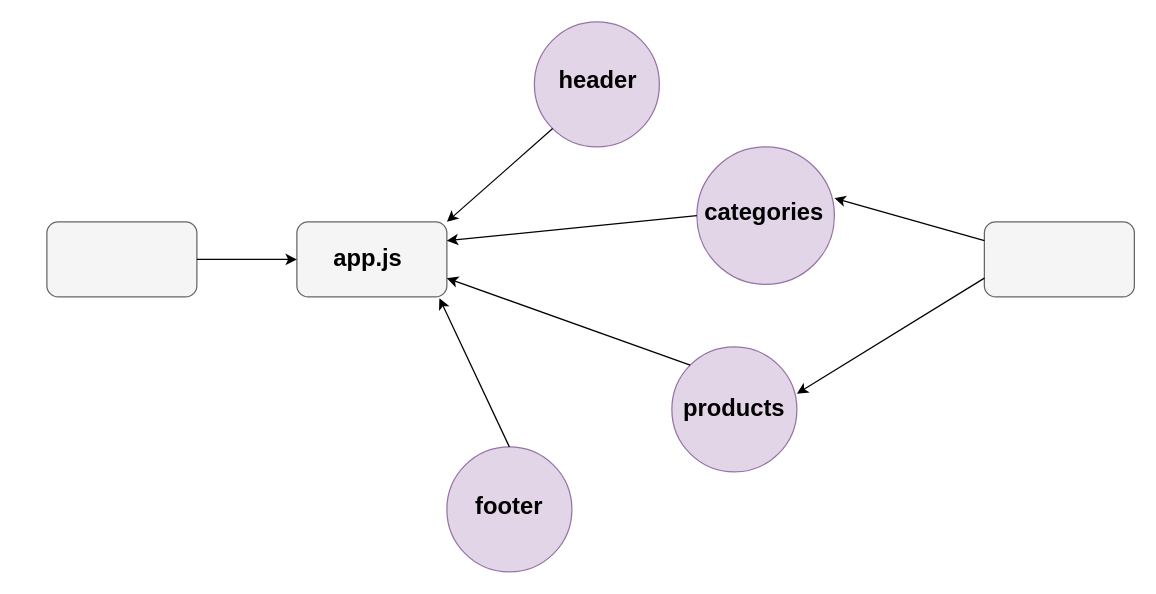
This 1156x594 diagram has some shape labels left out. Here are the shapes that lost their labels. From the top down, the centre of each, then its label:
At (121,259): "index.js".
At (1058,259): "store".
